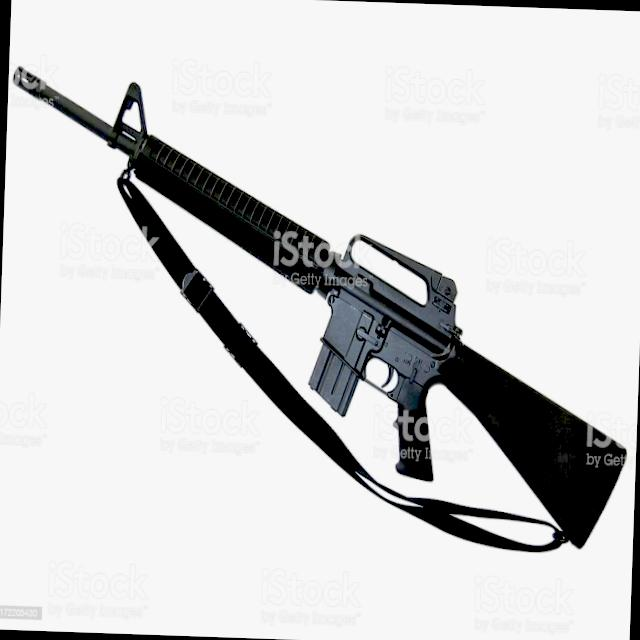m16: (1, 40, 637, 598)
